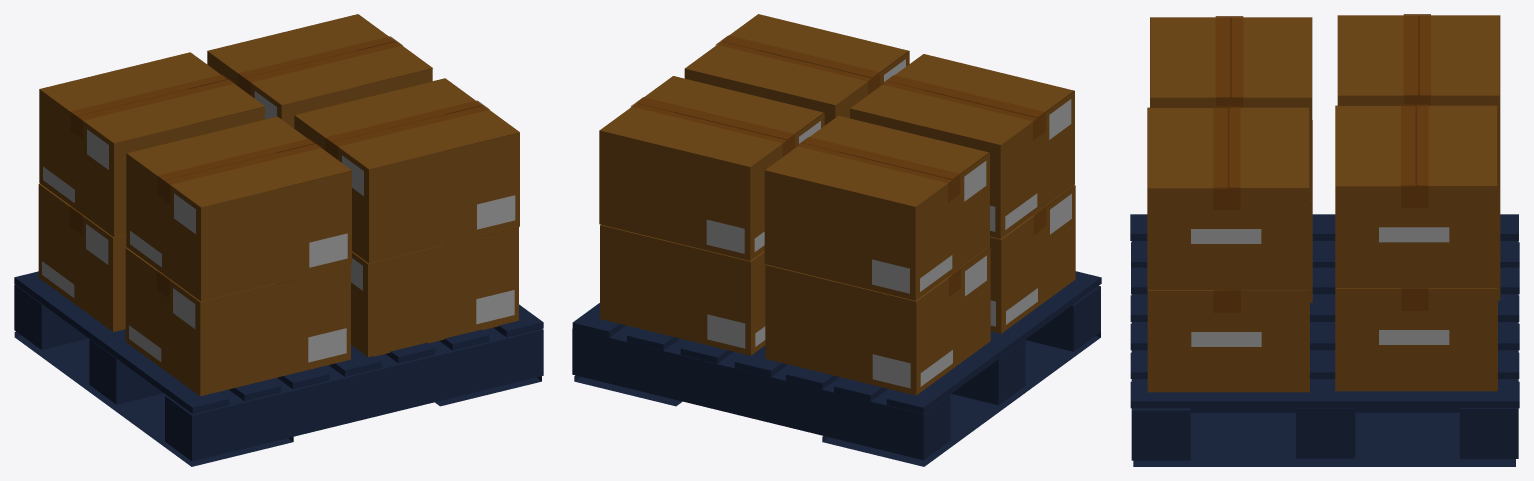
The model's file is pallet.obj.
3 renders of one model, left to right at view 1: azimuth 30°, elevation 25°; view 2: azimuth 150°, elevation 25°; view 3: azimuth 270°, elevation 25°, orthographic. The views are drawn at different scales.
Parts seen in each view (by area): view 1: Plane.004_Plane.011, Plane.005_Plane.012, Plane.003_Plane.010, Plane.007_Plane.014, Cube.000_Cube.023, Plane.002_Plane.009, Plane.006_Plane.013, Plane.001_Plane, Cube.010_Cube.004, Cube.002_Cube.025, Cube.001_Cube.024, Cube.007_Cube.001 (+7 smaller); view 2: Plane.007_Plane.014, Plane.006_Plane.013, Plane.001_Plane, Plane.004_Plane.011, Cube.001_Cube.024, Plane.000_Plane.008, Plane.005_Plane.012, Plane.003_Plane.010, Cube.010_Cube.004, Cube.002_Cube.025, Cube.000_Cube.023, Cube.007_Cube.001 (+7 smaller); view 3: Plane.006_Plane.013, Plane.005_Plane.012, Plane.000_Plane.008, Plane.002_Plane.009, Plane.007_Plane.014, Plane.004_Plane.011, Cube.018_Cube.016, Cube.016_Cube.022, Cube.000_Cube.023, Cube.007_Cube.001, Cube.001_Cube.024, Cube.014_Cube.020 (+5 smaller).
Boxes of the visible parts, <box> form: Plane.004_Plane.011: <box>126,116,351,301</box>; Plane.005_Plane.012: <box>294,78,519,263</box>; Plane.003_Plane.010: <box>125,247,350,396</box>; Plane.007_Plane.014: <box>39,52,264,237</box>; Cube.000_Cube.023: <box>165,327,543,461</box>; Plane.002_Plane.009: <box>351,227,518,357</box>; Plane.006_Plane.013: <box>207,14,432,128</box>; Plane.001_Plane: <box>38,183,126,331</box>; Cube.010_Cube.004: <box>14,271,229,413</box>; Cube.002_Cube.025: <box>14,331,293,466</box>; Cube.001_Cube.024: <box>14,284,88,349</box>; Cube.007_Cube.001: <box>89,339,163,404</box>; Plane.007_Plane.014: <box>764,115,989,300</box>; Plane.006_Plane.013: <box>599,76,824,260</box>; Plane.001_Plane: <box>765,247,990,395</box>; Plane.004_Plane.011: <box>850,54,1074,238</box>; Cube.001_Cube.024: <box>572,325,950,460</box>; Plane.000_Plane.008: <box>600,224,765,355</box>; Plane.005_Plane.012: <box>684,14,909,125</box>; Plane.003_Plane.010: <box>989,185,1075,333</box>; Cube.010_Cube.004: <box>886,271,1101,413</box>; Cube.002_Cube.025: <box>822,332,1100,466</box>; Cube.000_Cube.023: <box>1025,286,1100,351</box>; Cube.007_Cube.001: <box>951,339,1025,405</box>; Plane.006_Plane.013: <box>1335,104,1497,288</box>; Plane.005_Plane.012: <box>1147,106,1309,290</box>; Plane.000_Plane.008: <box>1335,209,1497,391</box>; Plane.002_Plane.009: <box>1147,290,1309,392</box>; Plane.007_Plane.014: <box>1337,14,1500,197</box>; Plane.004_Plane.011: <box>1150,16,1312,199</box>; Cube.018_Cube.016: <box>1133,408,1515,466</box>; Cube.016_Cube.022: <box>1130,381,1519,408</box>; Cube.000_Cube.023: <box>1131,241,1190,460</box>; Cube.007_Cube.001: <box>1296,241,1355,458</box>; Cube.001_Cube.024: <box>1459,241,1518,458</box>; Cube.014_Cube.020: <box>1130,323,1519,350</box>.
Bounding box in the file's own units: 3.22 × 2.2 × 2.83.
